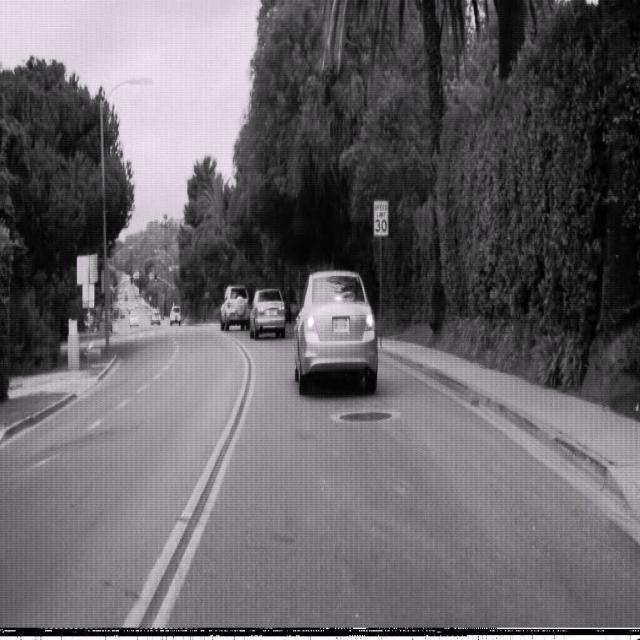speedLimit30: (373, 198, 389, 236)
